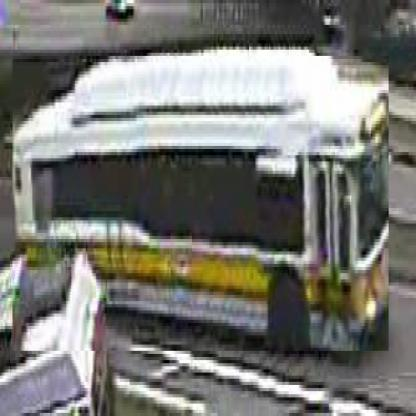bus: (13, 57, 391, 355)
